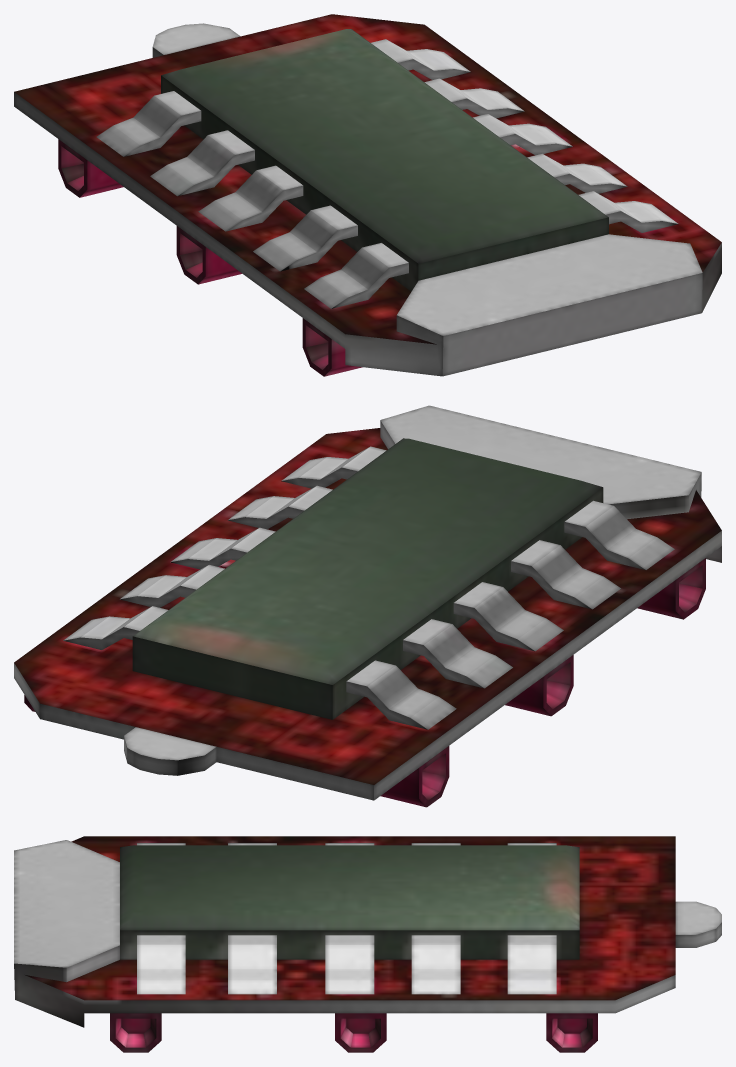
File: bugbody.obj
3 views of the same model, one above another, from view 1: azimuth 30°, elevation 25°; view 2: azimuth 150°, elevation 25°; view 3: azimuth 270°, elevation 25° (orthographic). The views are drawn at different scales.
Parts seen in each view (by area): view 1: Object004; view 2: Object004; view 3: Object004.
Part boxes in pixels (<box>): Object004: <box>14,14,721,376</box>; Object004: <box>14,405,721,807</box>; Object004: <box>14,836,721,1052</box>.
Bounding box in the file's own units: 28.71 × 7.31 × 52.32.
Materials: 1 (1 with a texture image).
